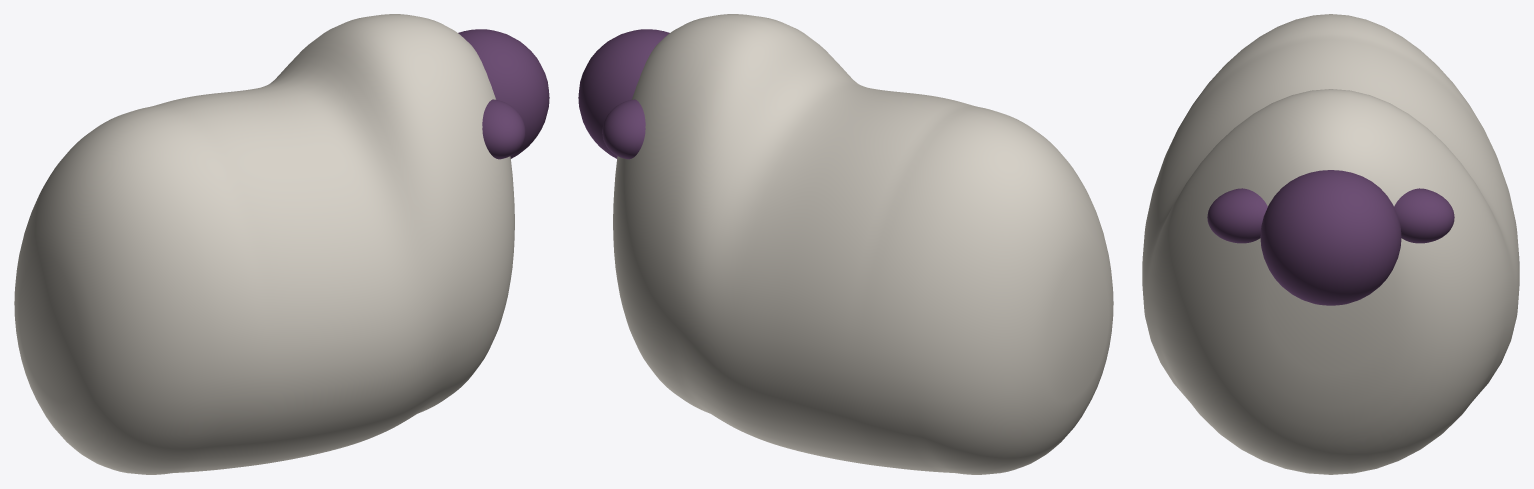
Rendered from sheep.glb.
The picture shows the model from 3 angles, left to right: view 1: azimuth 30°, elevation 25°; view 2: azimuth 150°, elevation 25°; view 3: azimuth 270°, elevation 25°; orthographic projection.
Parts seen in each view (by area): view 1: Sheep_Model; view 2: Sheep_Model; view 3: Sheep_Model.
Boxes of the visible parts, x1,y1,x2,y2 form: Sheep_Model: (14, 14, 549, 474); Sheep_Model: (578, 14, 1113, 474); Sheep_Model: (1142, 14, 1519, 474).
Bounding box in the file's own units: 1.51 × 1.12 × 0.9894.
